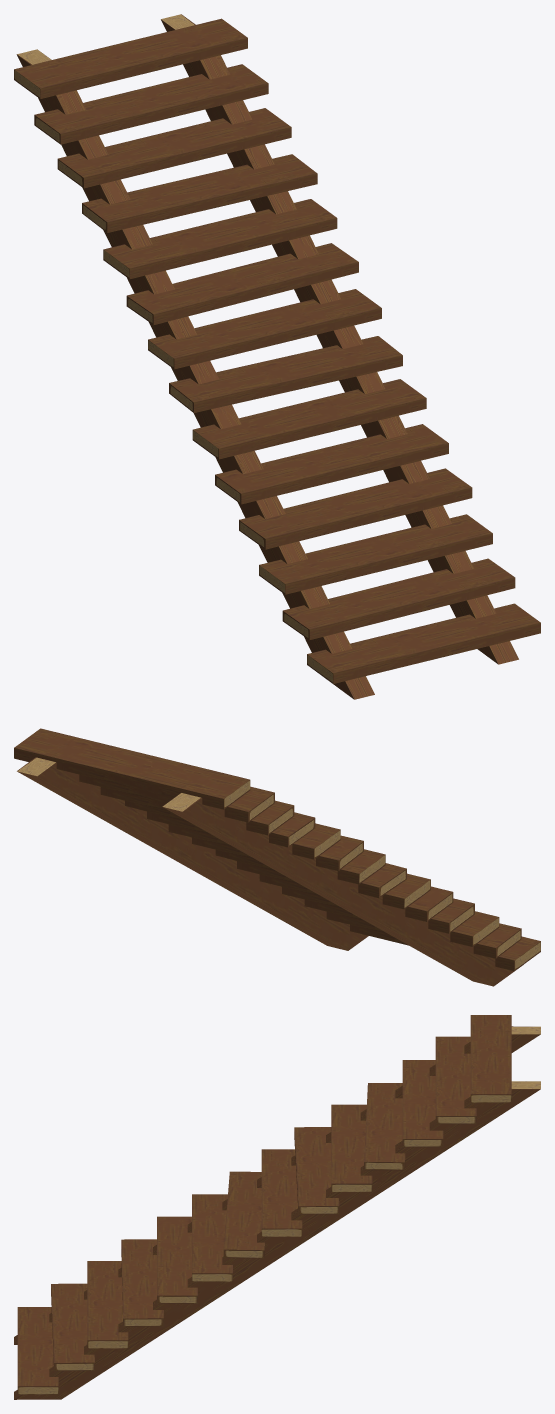
The model's file is Stair_Interior_Simple.glb.
The picture shows the model from 3 angles, top to bottom: view 1: azimuth 30°, elevation 25°; view 2: azimuth 150°, elevation 25°; view 3: azimuth 270°, elevation 25°; orthographic projection. The views are drawn at different scales.
Parts seen in each view (by area): view 1: Stair_Interior_Simple; view 2: Stair_Interior_Simple; view 3: Stair_Interior_Simple.
Part boxes in pixels (x1,y1,x2,y2): Stair_Interior_Simple: (14,14,540,699); Stair_Interior_Simple: (14,728,540,986); Stair_Interior_Simple: (14,1015,540,1399).
Size of the model in its own units: 1.68 by 3.03 by 4.62.
Materials: 1 (1 with a texture image).
